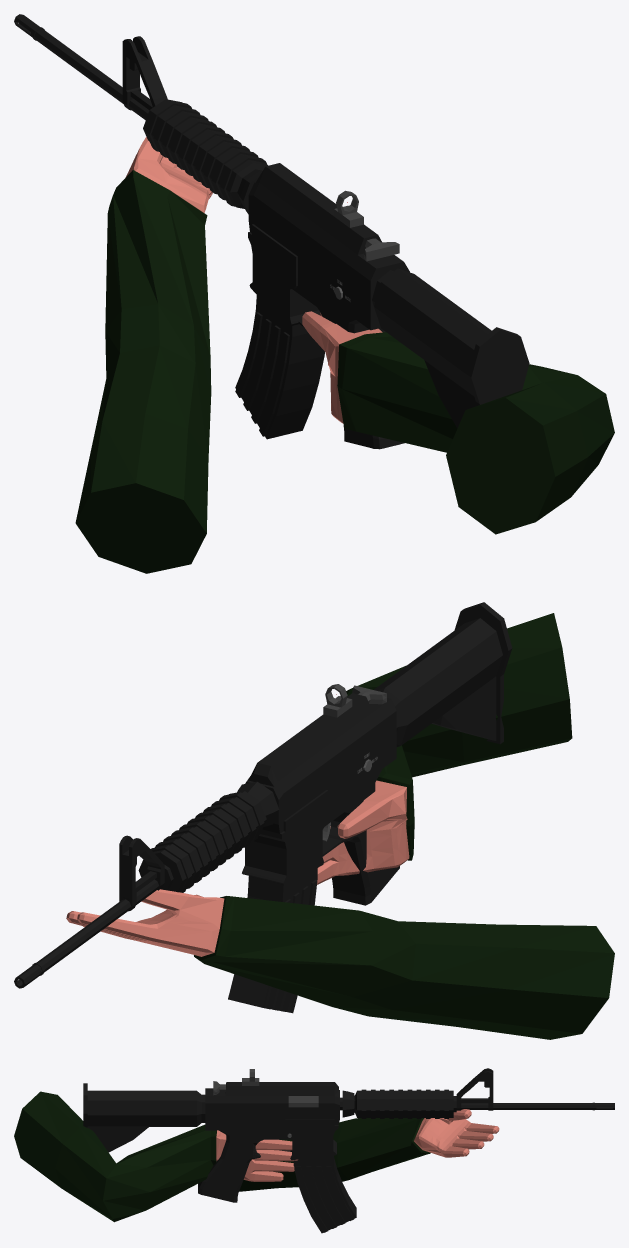
The picture shows the model from 3 angles, top to bottom: view 1: azimuth 30°, elevation 25°; view 2: azimuth 150°, elevation 25°; view 3: azimuth 270°, elevation 25°; orthographic projection. The views are drawn at different scales.
Parts seen in each view (by area): view 1: arms, gun, mag; view 2: arms, gun, mag; view 3: arms, gun, mag.
Part boxes in pixels (left/top/right/bottom): arms: left=75, top=137, right=614, bottom=573; gun: left=14, top=14, right=529, bottom=449; mag: left=235, top=295, right=324, bottom=439; arms: left=66, top=613, right=614, bottom=1039; gun: left=14, top=602, right=512, bottom=988; mag: left=228, top=868, right=317, bottom=1013; arms: left=14, top=1091, right=499, bottom=1222; gun: left=83, top=1068, right=614, bottom=1202; mag: left=293, top=1155, right=356, bottom=1233.
Size of the model in its own units: 1.18 by 0.8919 by 2.72.
